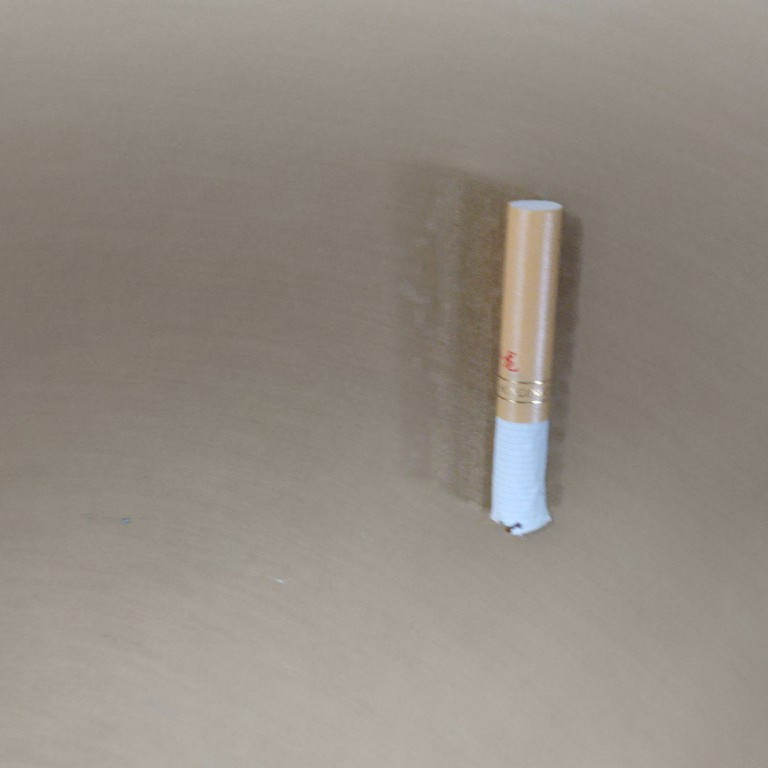cigarette: (486, 196, 565, 538)
